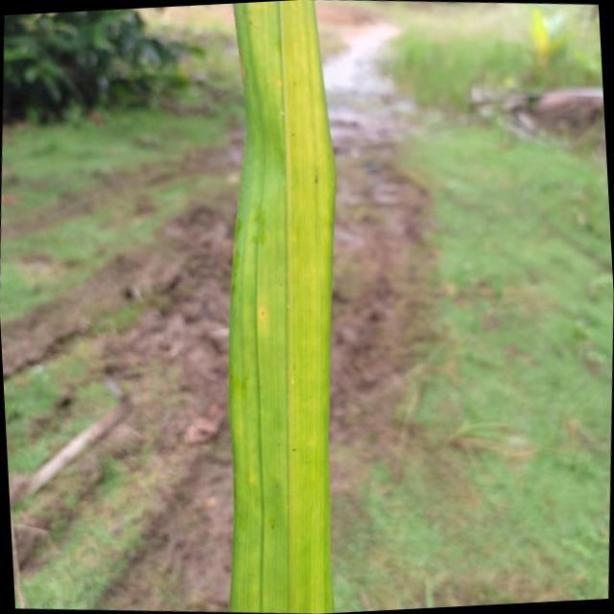nitrogen: (229, 0, 337, 614)
